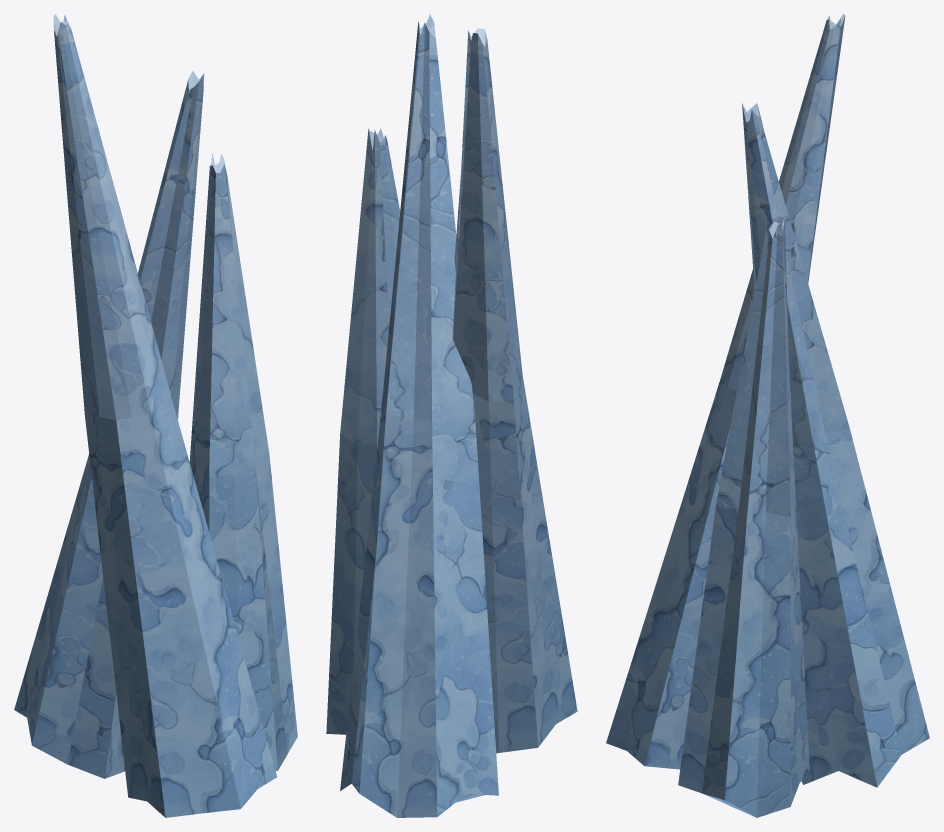
File: ice_spire_a.glb
The picture shows the model from 3 angles, left to right: view 1: azimuth 30°, elevation 25°; view 2: azimuth 150°, elevation 25°; view 3: azimuth 270°, elevation 25°; orthographic projection. The views are drawn at different scales.
Parts seen in each view (by area): view 1: ice_spire_a; view 2: ice_spire_a; view 3: ice_spire_a.
Part boxes in pixels (<box>): ice_spire_a: <box>14,14,297,817</box>; ice_spire_a: <box>326,14,577,817</box>; ice_spire_a: <box>606,14,929,817</box>.
Bounding box in the file's own units: 2.55 × 8.96 × 3.61.
Materials: 1 (1 with a texture image).
